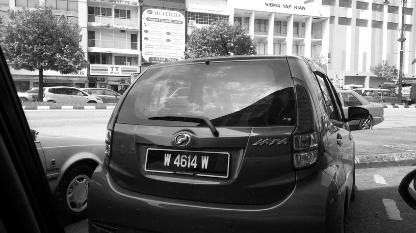license plate: (140, 144, 236, 186)
